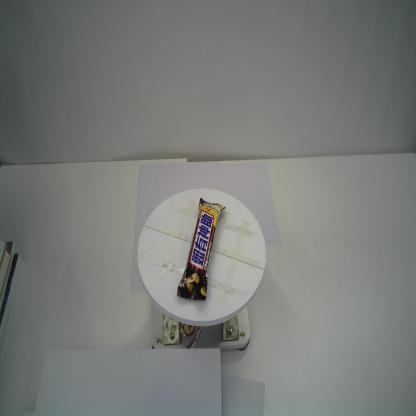Chocolate: (176, 198, 226, 302)
